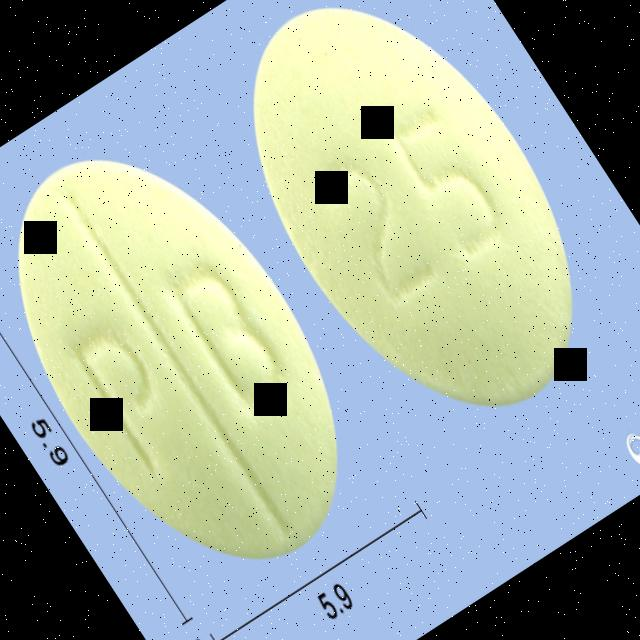Azabio: (0, 96, 407, 617)
